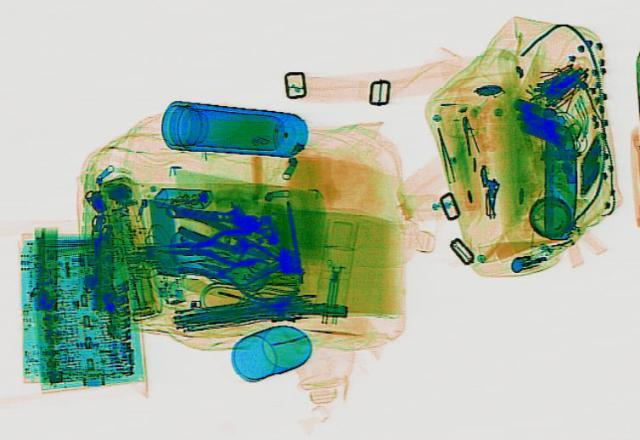Pliers: (158, 226, 252, 262)
Wrench: (160, 198, 258, 228)
